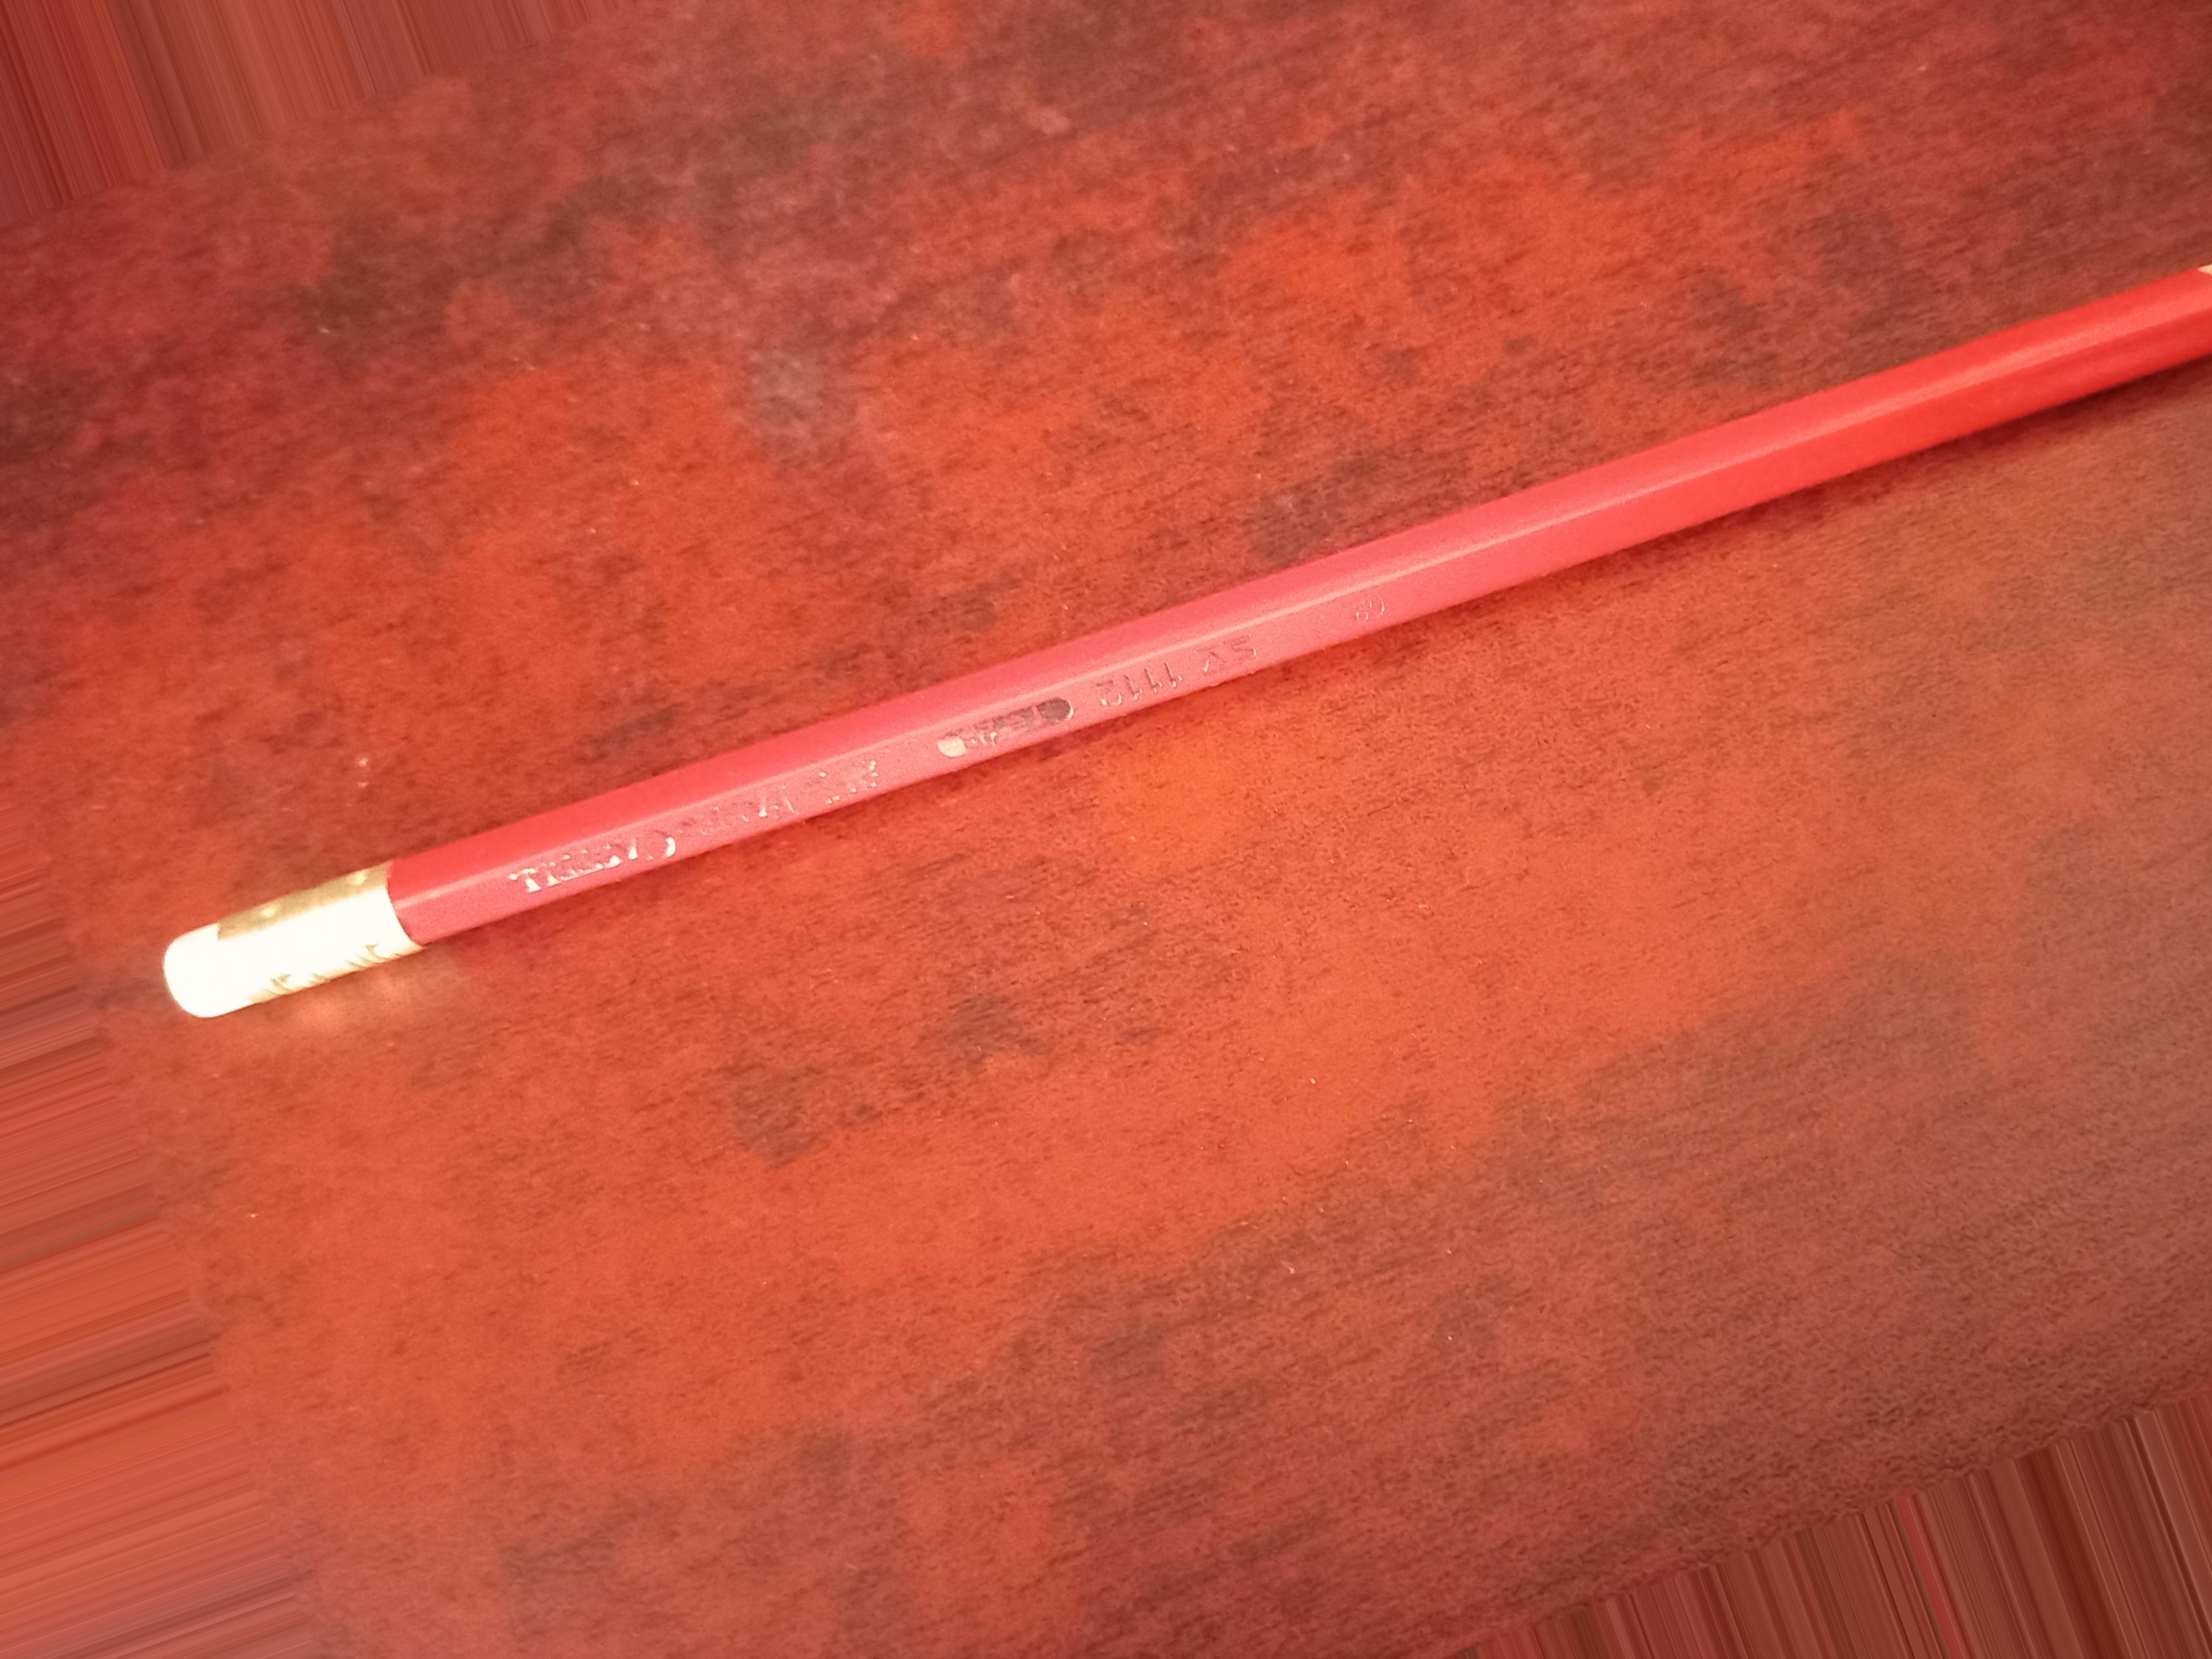pencil: (192, 268, 2212, 1096)
